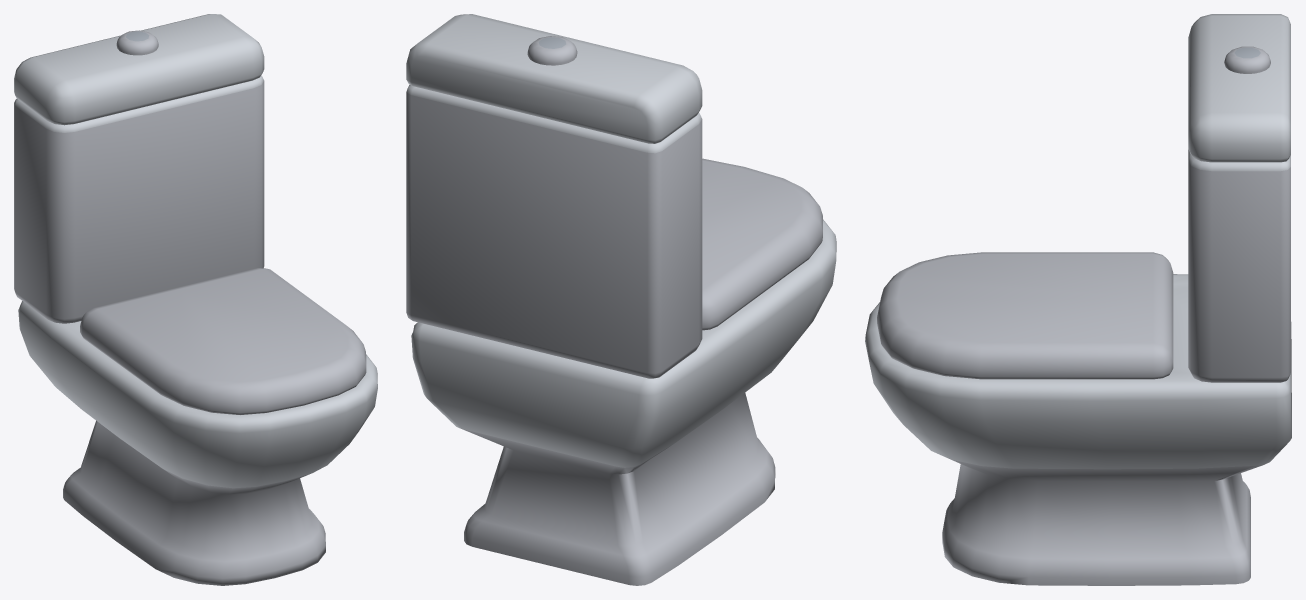
File: vaso_sanitario_pacote.glb
3 views of the same model, side by side, from view 1: azimuth 30°, elevation 25°; view 2: azimuth 150°, elevation 25°; view 3: azimuth 270°, elevation 25° (orthographic). The views are drawn at different scales.
Visible parts, largest first — view 1: vaso_sanitario_pacote, tampa; view 2: vaso_sanitario_pacote, tampa; view 3: vaso_sanitario_pacote, tampa.
Part boxes in pixels (x1,y1,x2,y2): vaso_sanitario_pacote: (14,14,377,585); tampa: (80,268,366,414); vaso_sanitario_pacote: (406,14,836,585); tampa: (702,158,822,330); vaso_sanitario_pacote: (865,14,1291,585); tampa: (877,252,1173,379).
Size of the model in its own units: 0.4174 by 0.8017 by 0.6345.
1 material, 1 textured.
